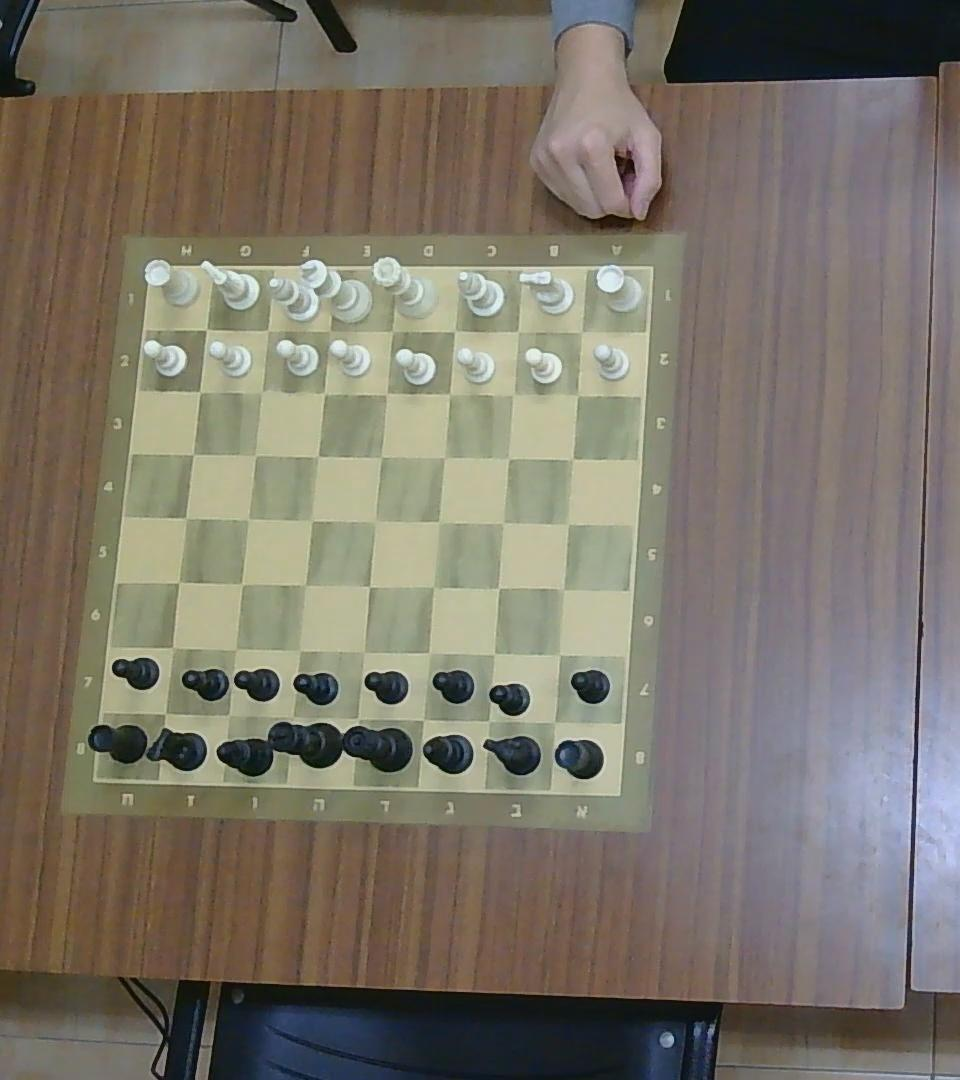xcorner: (345, 708, 369, 732), (277, 707, 301, 730), (154, 702, 177, 724), (319, 320, 341, 340), (543, 712, 565, 732), (479, 710, 500, 730), (413, 710, 434, 730), (169, 572, 189, 592), (364, 511, 384, 531), (246, 445, 265, 465), (289, 640, 309, 659), (445, 321, 464, 340), (440, 383, 459, 402), (219, 704, 238, 723), (429, 511, 447, 531), (183, 444, 201, 463), (315, 383, 333, 402), (177, 508, 195, 527), (423, 577, 441, 596), (382, 321, 400, 340), (225, 640, 244, 658), (504, 385, 522, 404), (164, 638, 182, 657), (371, 448, 389, 466), (361, 576, 379, 594), (296, 576, 314, 594), (559, 515, 577, 533), (259, 321, 277, 339), (484, 645, 502, 663), (355, 642, 373, 660), (555, 581, 573, 599), (197, 319, 214, 338), (495, 513, 512, 532), (509, 321, 526, 340), (569, 385, 586, 404), (435, 448, 453, 465), (500, 448, 517, 466), (377, 384, 394, 402), (309, 446, 326, 464), (239, 510, 256, 528), (303, 512, 320, 530), (573, 322, 591, 339), (564, 450, 582, 467), (253, 382, 270, 400), (421, 644, 439, 661), (550, 646, 568, 663), (233, 575, 250, 592), (489, 580, 506, 597), (190, 383, 207, 399)
